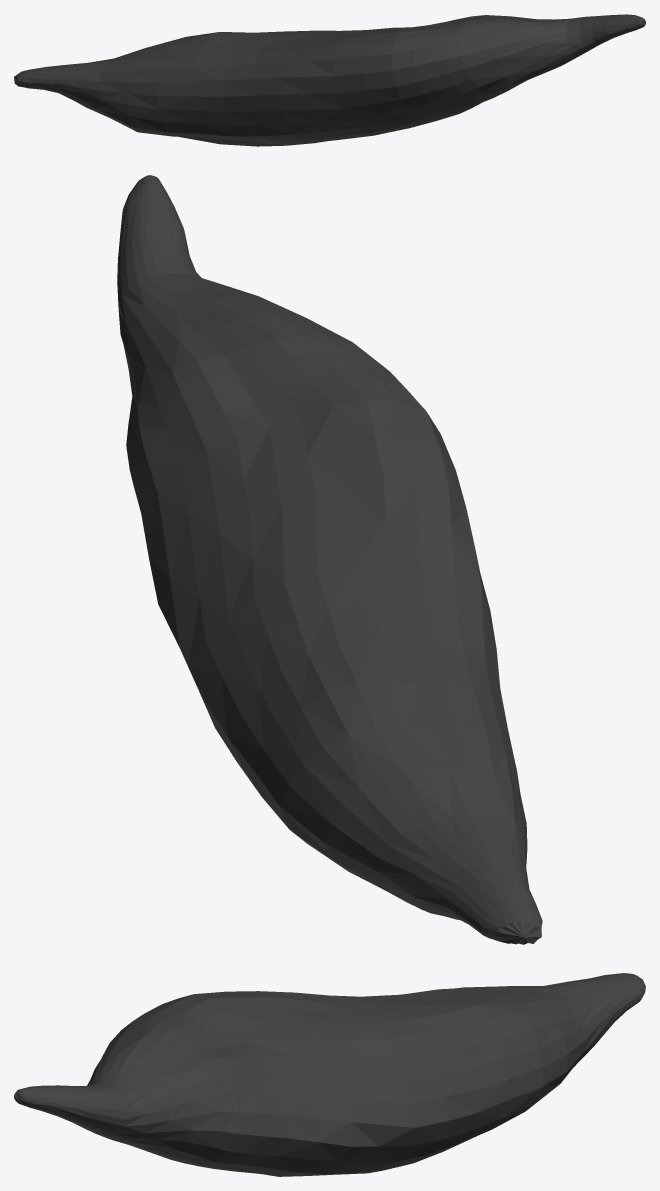
Rendered from TricepsMedial_1.glb.
3 views of the same model, one above another, from view 1: azimuth 30°, elevation 25°; view 2: azimuth 150°, elevation 25°; view 3: azimuth 270°, elevation 25° (orthographic). The views are drawn at different scales.
Parts seen in each view (by area): view 1: TricepsMedial_1; view 2: TricepsMedial_1; view 3: TricepsMedial_1.
Boxes of the visible parts, box(x1,y1,x2,y2) form: TricepsMedial_1: box(14, 14, 645, 146); TricepsMedial_1: box(117, 175, 542, 944); TricepsMedial_1: box(14, 973, 645, 1176).
Bounding box in the file's own units: 0.0226 × 0.00857 × 0.021.
1 material, 1 textured.
